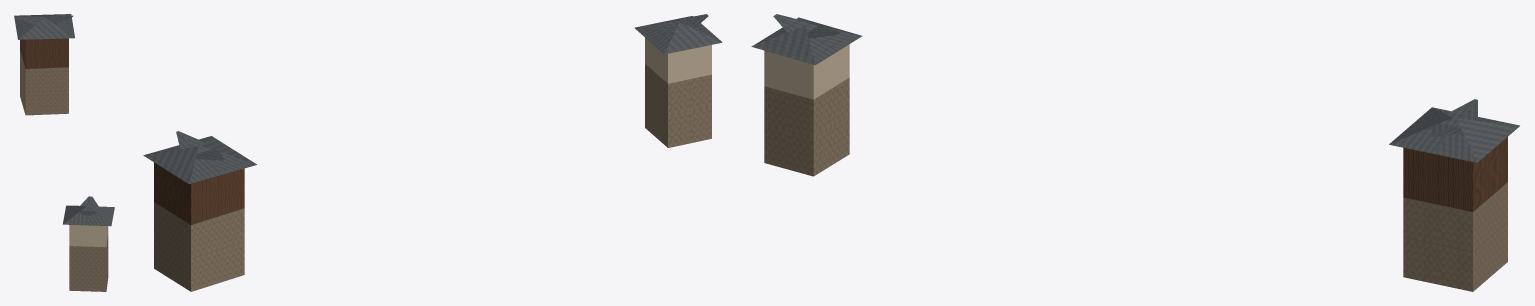
File: bld_c10_28_396.gltf
The picture shows the model from 3 angles, left to right: view 1: azimuth 30°, elevation 25°; view 2: azimuth 150°, elevation 25°; view 3: azimuth 270°, elevation 25°; orthographic projection. The views are drawn at different scales.
Visible parts, largest first — view 1: bld_c10_28_396; view 2: bld_c10_28_396; view 3: bld_c10_28_396.
Part boxes in pixels (<box>): bld_c10_28_396: <box>14,14,114,291</box>; bld_c10_28_396: <box>143,14,722,291</box>; bld_c10_28_396: <box>751,14,1519,291</box>.
Size of the model in its own units: 21.8 by 9.5 by 41.03.
Materials: 4 (4 with a texture image).
